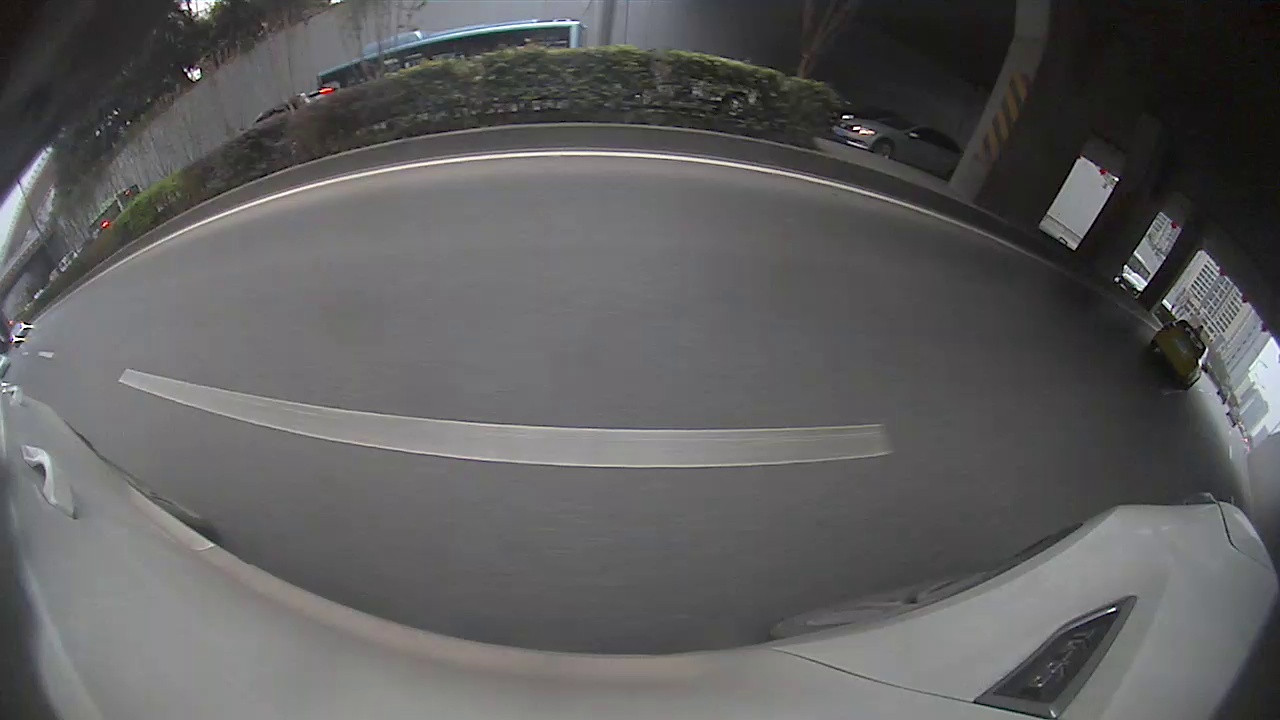car: (830, 113, 958, 180), (1148, 320, 1208, 390)
front: (873, 136, 896, 160)
